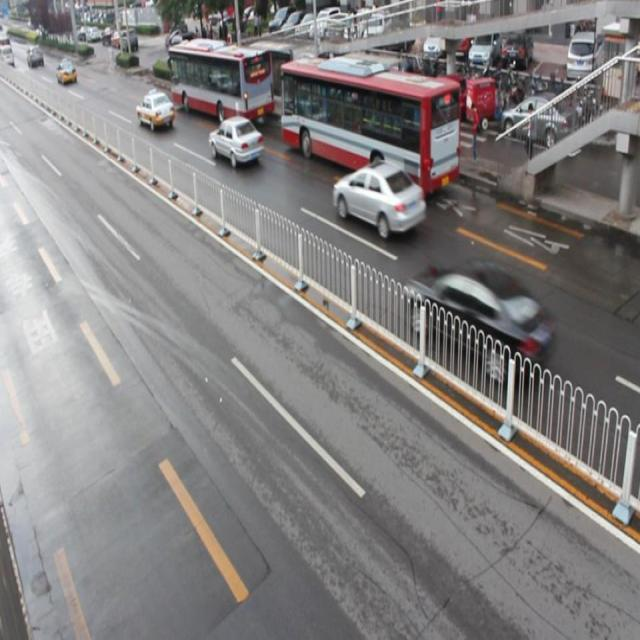car: (404, 262, 552, 383), (332, 160, 425, 237), (208, 115, 263, 166), (136, 91, 173, 131)
van: (281, 57, 460, 194), (170, 39, 274, 126)
